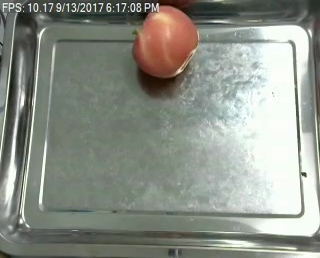Apple: (132, 3, 198, 78)
